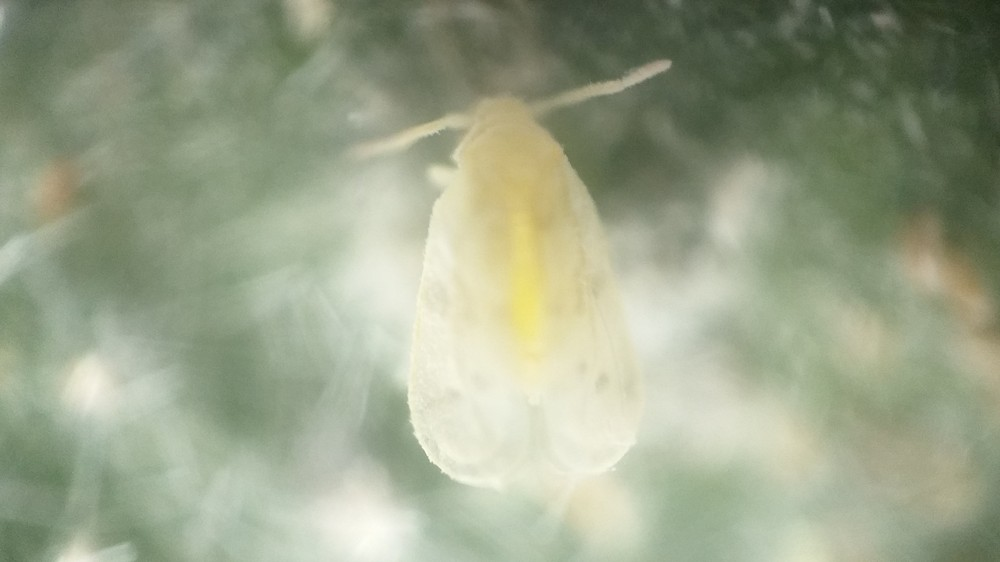Mosca Blanca: (340, 52, 724, 511)
